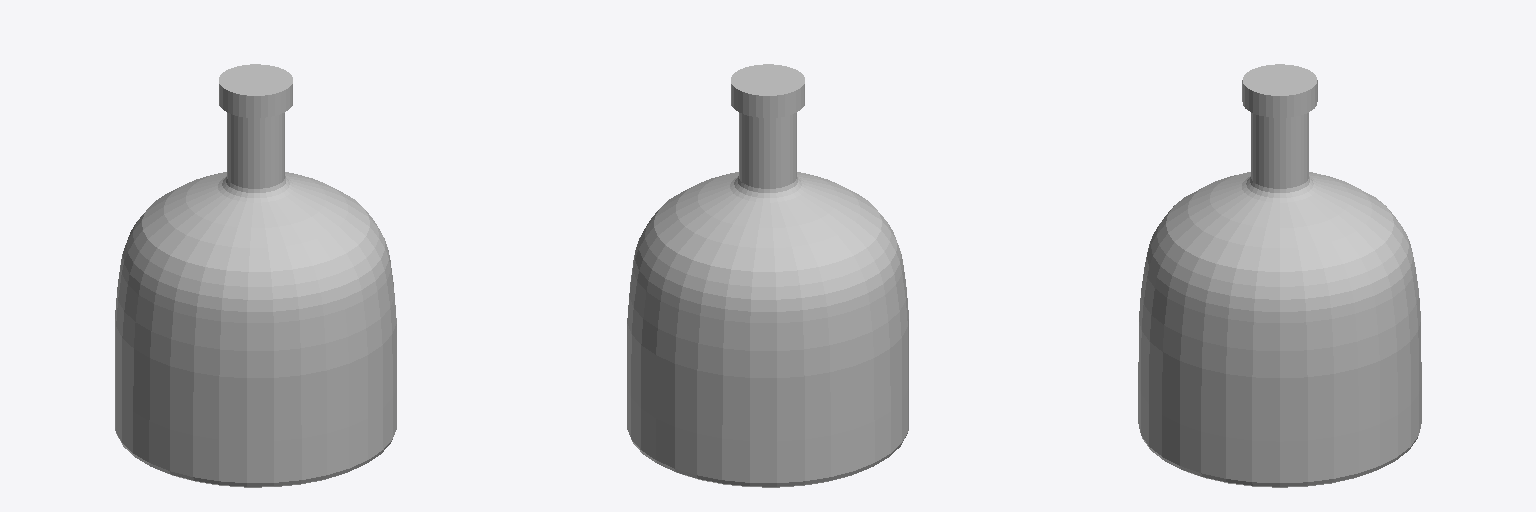
Rendered from Bottle4.obj.
3 views of the same model, side by side, from view 1: azimuth 30°, elevation 25°; view 2: azimuth 150°, elevation 25°; view 3: azimuth 270°, elevation 25° (orthographic).
Parts seen in each view (by area): view 1: Cylinder.002; view 2: Cylinder.002; view 3: Cylinder.002.
Boxes of the visible parts, box(x1,y1,x2,y2) form: Cylinder.002: box(115, 64, 396, 487); Cylinder.002: box(627, 64, 908, 487); Cylinder.002: box(1138, 64, 1421, 487).
Size of the model in its own units: 0.3965 by 0.543 by 0.3965.